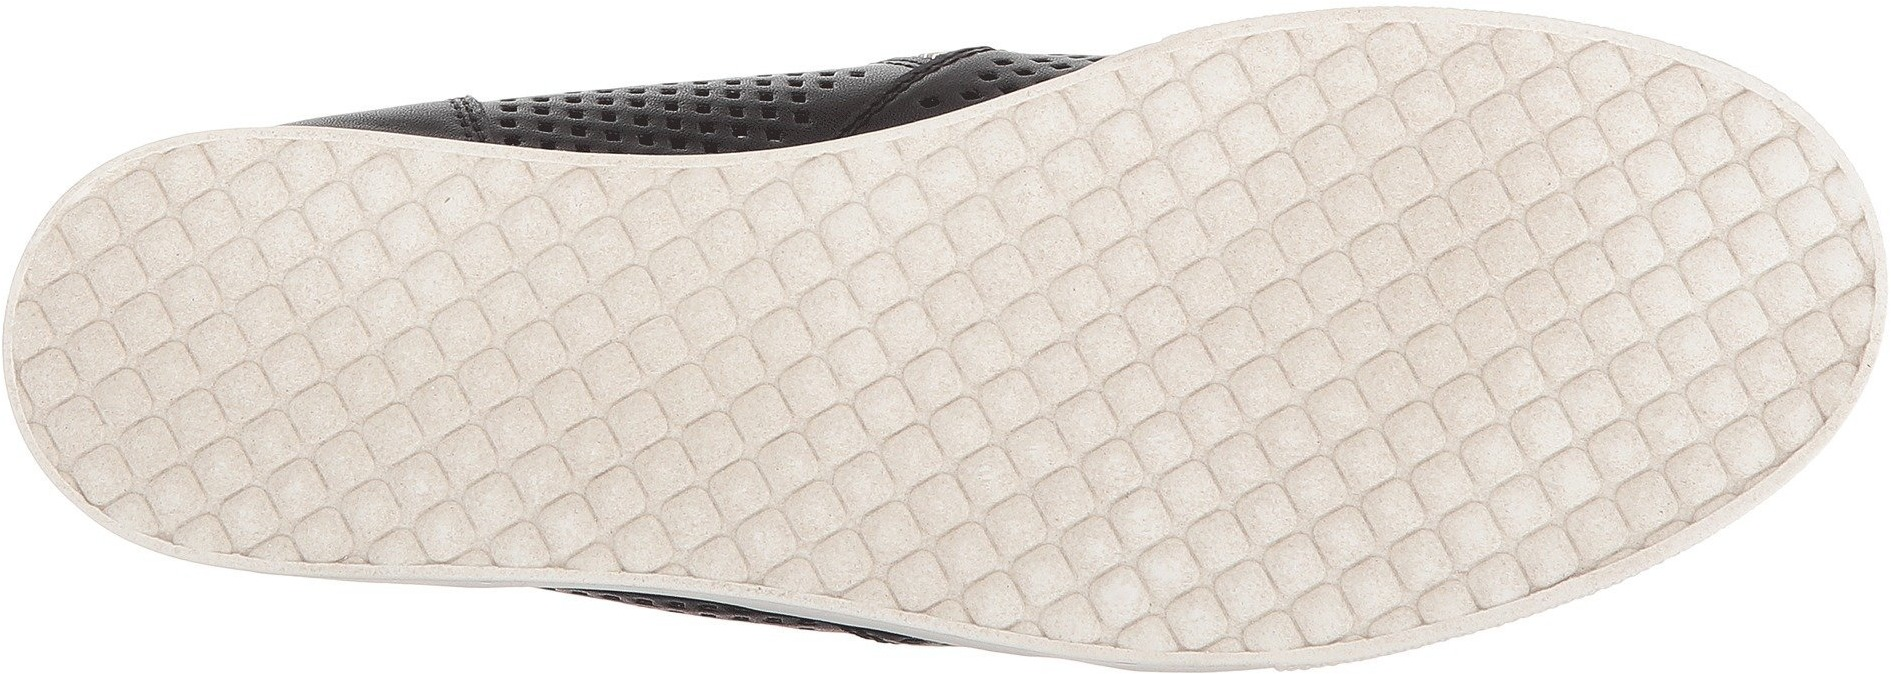quad: (308, 166, 703, 574), (1372, 76, 1769, 458), (1023, 96, 1364, 430), (718, 172, 1018, 462), (52, 234, 301, 487), (1056, 438, 1286, 656)
